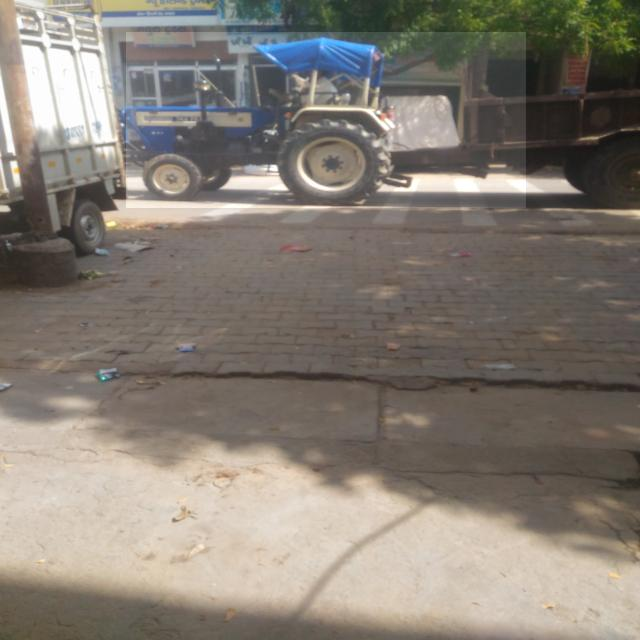Tractot: (126, 32, 526, 208)
